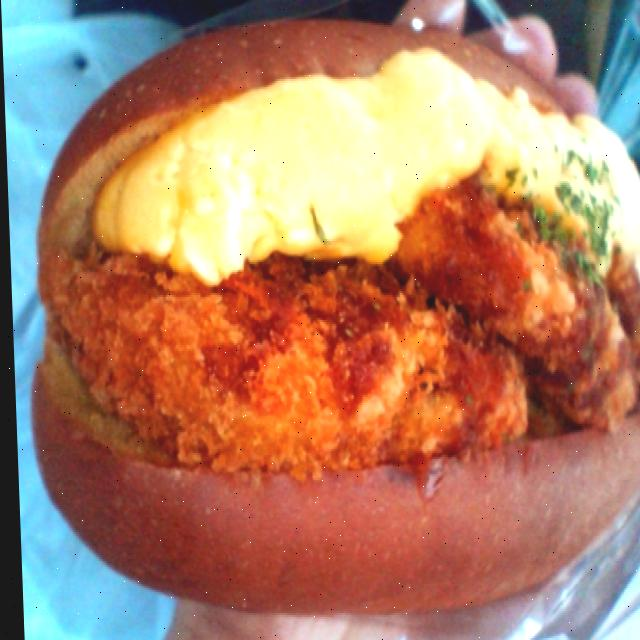三明治: (23, 40, 640, 612)
